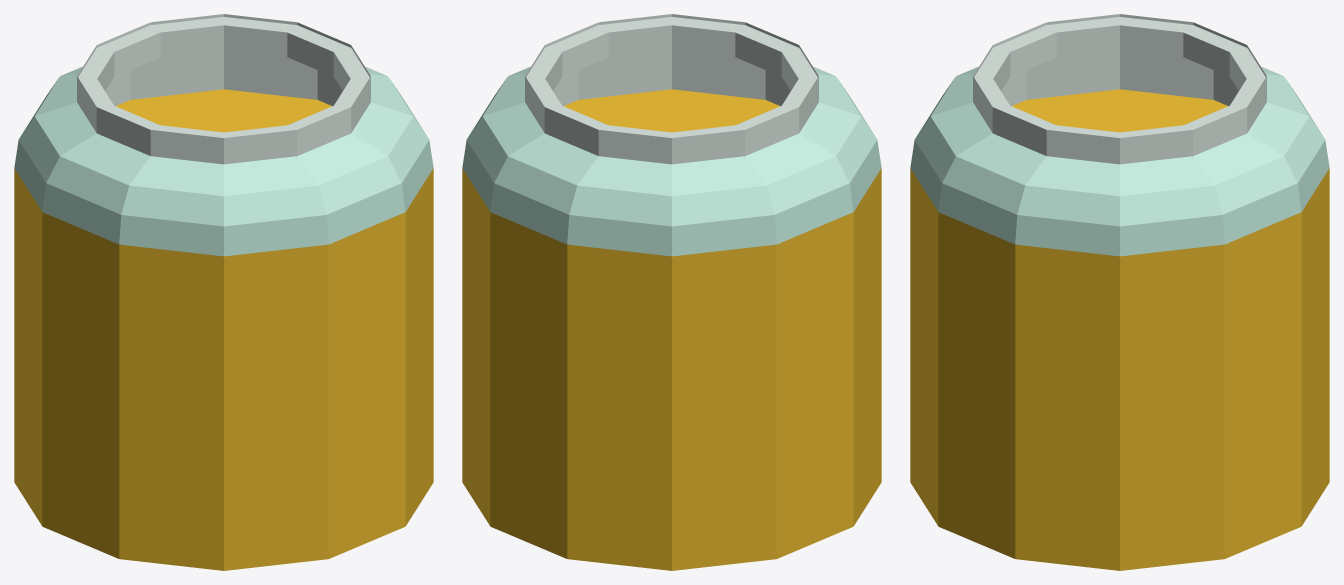
Rendered from honey_jar_2.fbx.
3 views of the same model, side by side, from view 1: azimuth 30°, elevation 25°; view 2: azimuth 150°, elevation 25°; view 3: azimuth 270°, elevation 25° (orthographic).
Visible parts, largest first — view 1: honey_jar_2; view 2: honey_jar_2; view 3: honey_jar_2.
Boxes of the visible parts, left/top/right/bottom form: honey_jar_2: left=14, top=14, right=433, bottom=570; honey_jar_2: left=462, top=14, right=881, bottom=570; honey_jar_2: left=910, top=14, right=1329, bottom=570.
Bounding box in the file's own units: 119 × 127 × 119.
